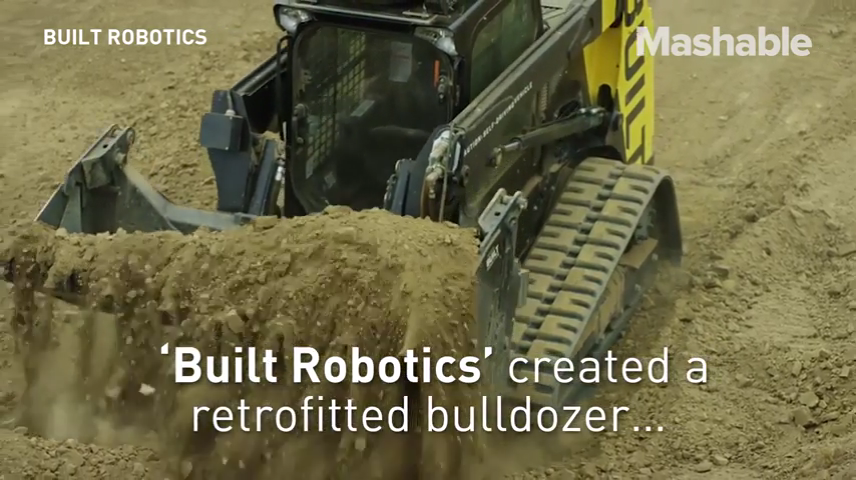con_eq: (31, 1, 699, 398)
